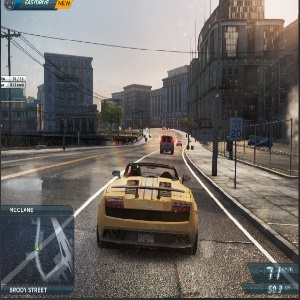building: (195, 10, 300, 136), (42, 52, 94, 140), (150, 69, 194, 129), (113, 78, 153, 128)
road sign: (227, 116, 244, 189)
tree: (95, 99, 123, 144), (183, 117, 196, 142)
vehicle: (159, 133, 176, 156), (247, 137, 276, 150)
